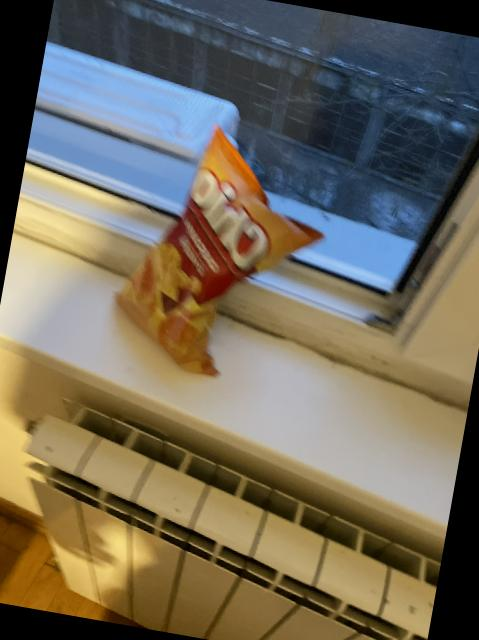Chio Cascaval 125g: (99, 113, 338, 392)
